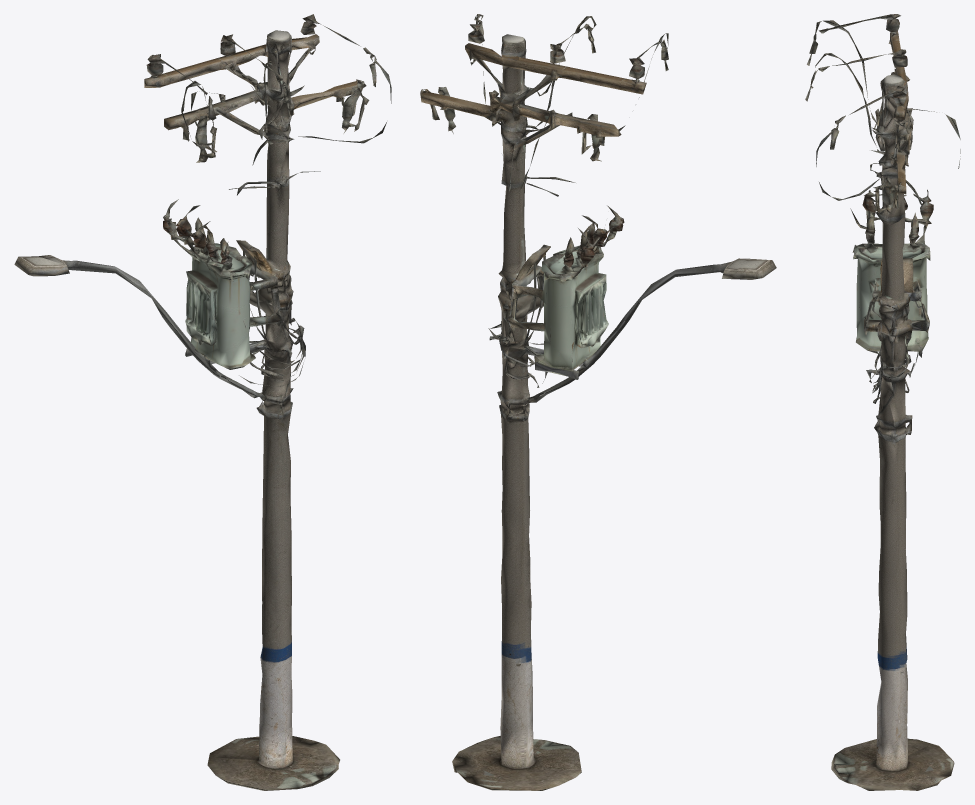
Rendered from power_pole.glb.
3 views of the same model, side by side, from view 1: azimuth 30°, elevation 25°; view 2: azimuth 150°, elevation 25°; view 3: azimuth 270°, elevation 25° (orthographic). The views are drawn at different scales.
Parts seen in each view (by area): view 1: power_pole; view 2: power_pole; view 3: power_pole.
Part boxes in pixels (x1=…): power_pole: x1=14, y1=14, x2=391, y2=790; power_pole: x1=420, y1=14, x2=776, y2=790; power_pole: x1=805, y1=14, x2=960, y2=790.
Bounding box in the file's own units: 94.09 × 190 × 38.51.
Materials: 1 (1 with a texture image).
